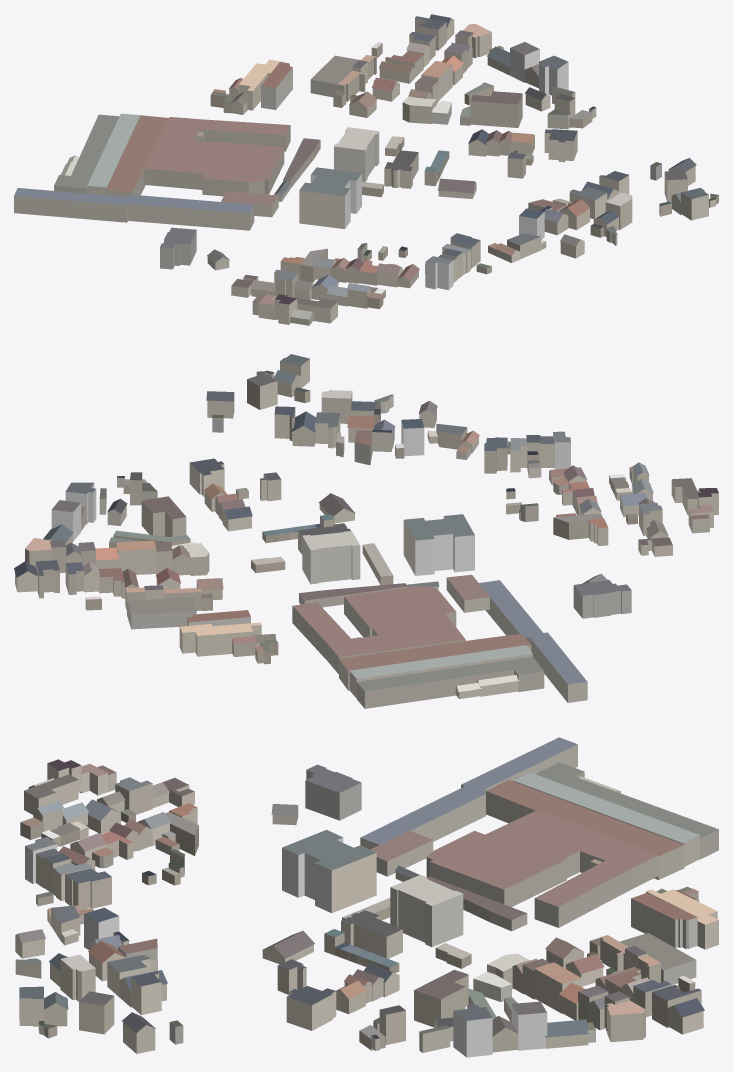
The picture shows the model from 3 angles, top to bottom: view 1: azimuth 30°, elevation 25°; view 2: azimuth 150°, elevation 25°; view 3: azimuth 270°, elevation 25°; orthographic projection. The views are drawn at different scales.
Visible parts, largest first — view 1: tuile; view 2: tuile; view 3: tuile.
Part boxes in pixels (left/top/right/bottom): tuile: left=14, top=14, right=718, bottom=325; tuile: left=14, top=354, right=718, bottom=708; tuile: left=15, top=737, right=718, bottom=1057.
Size of the model in its own units: 291 by 28.11 by 265.
